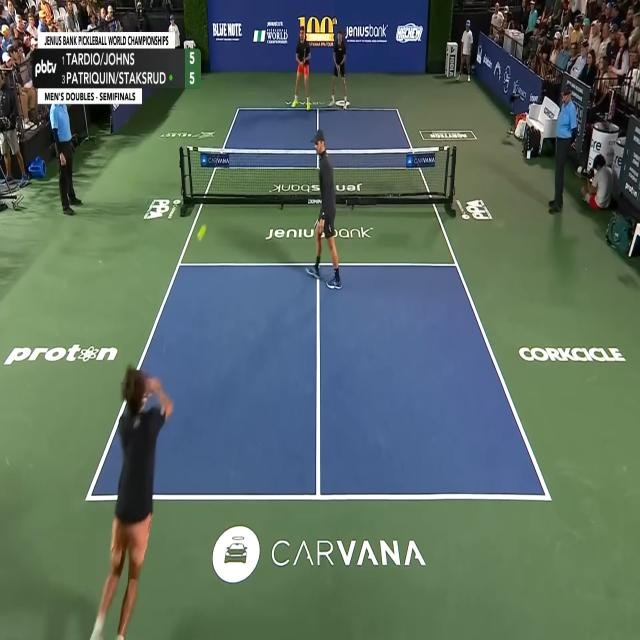ball: (197, 224, 206, 242)
